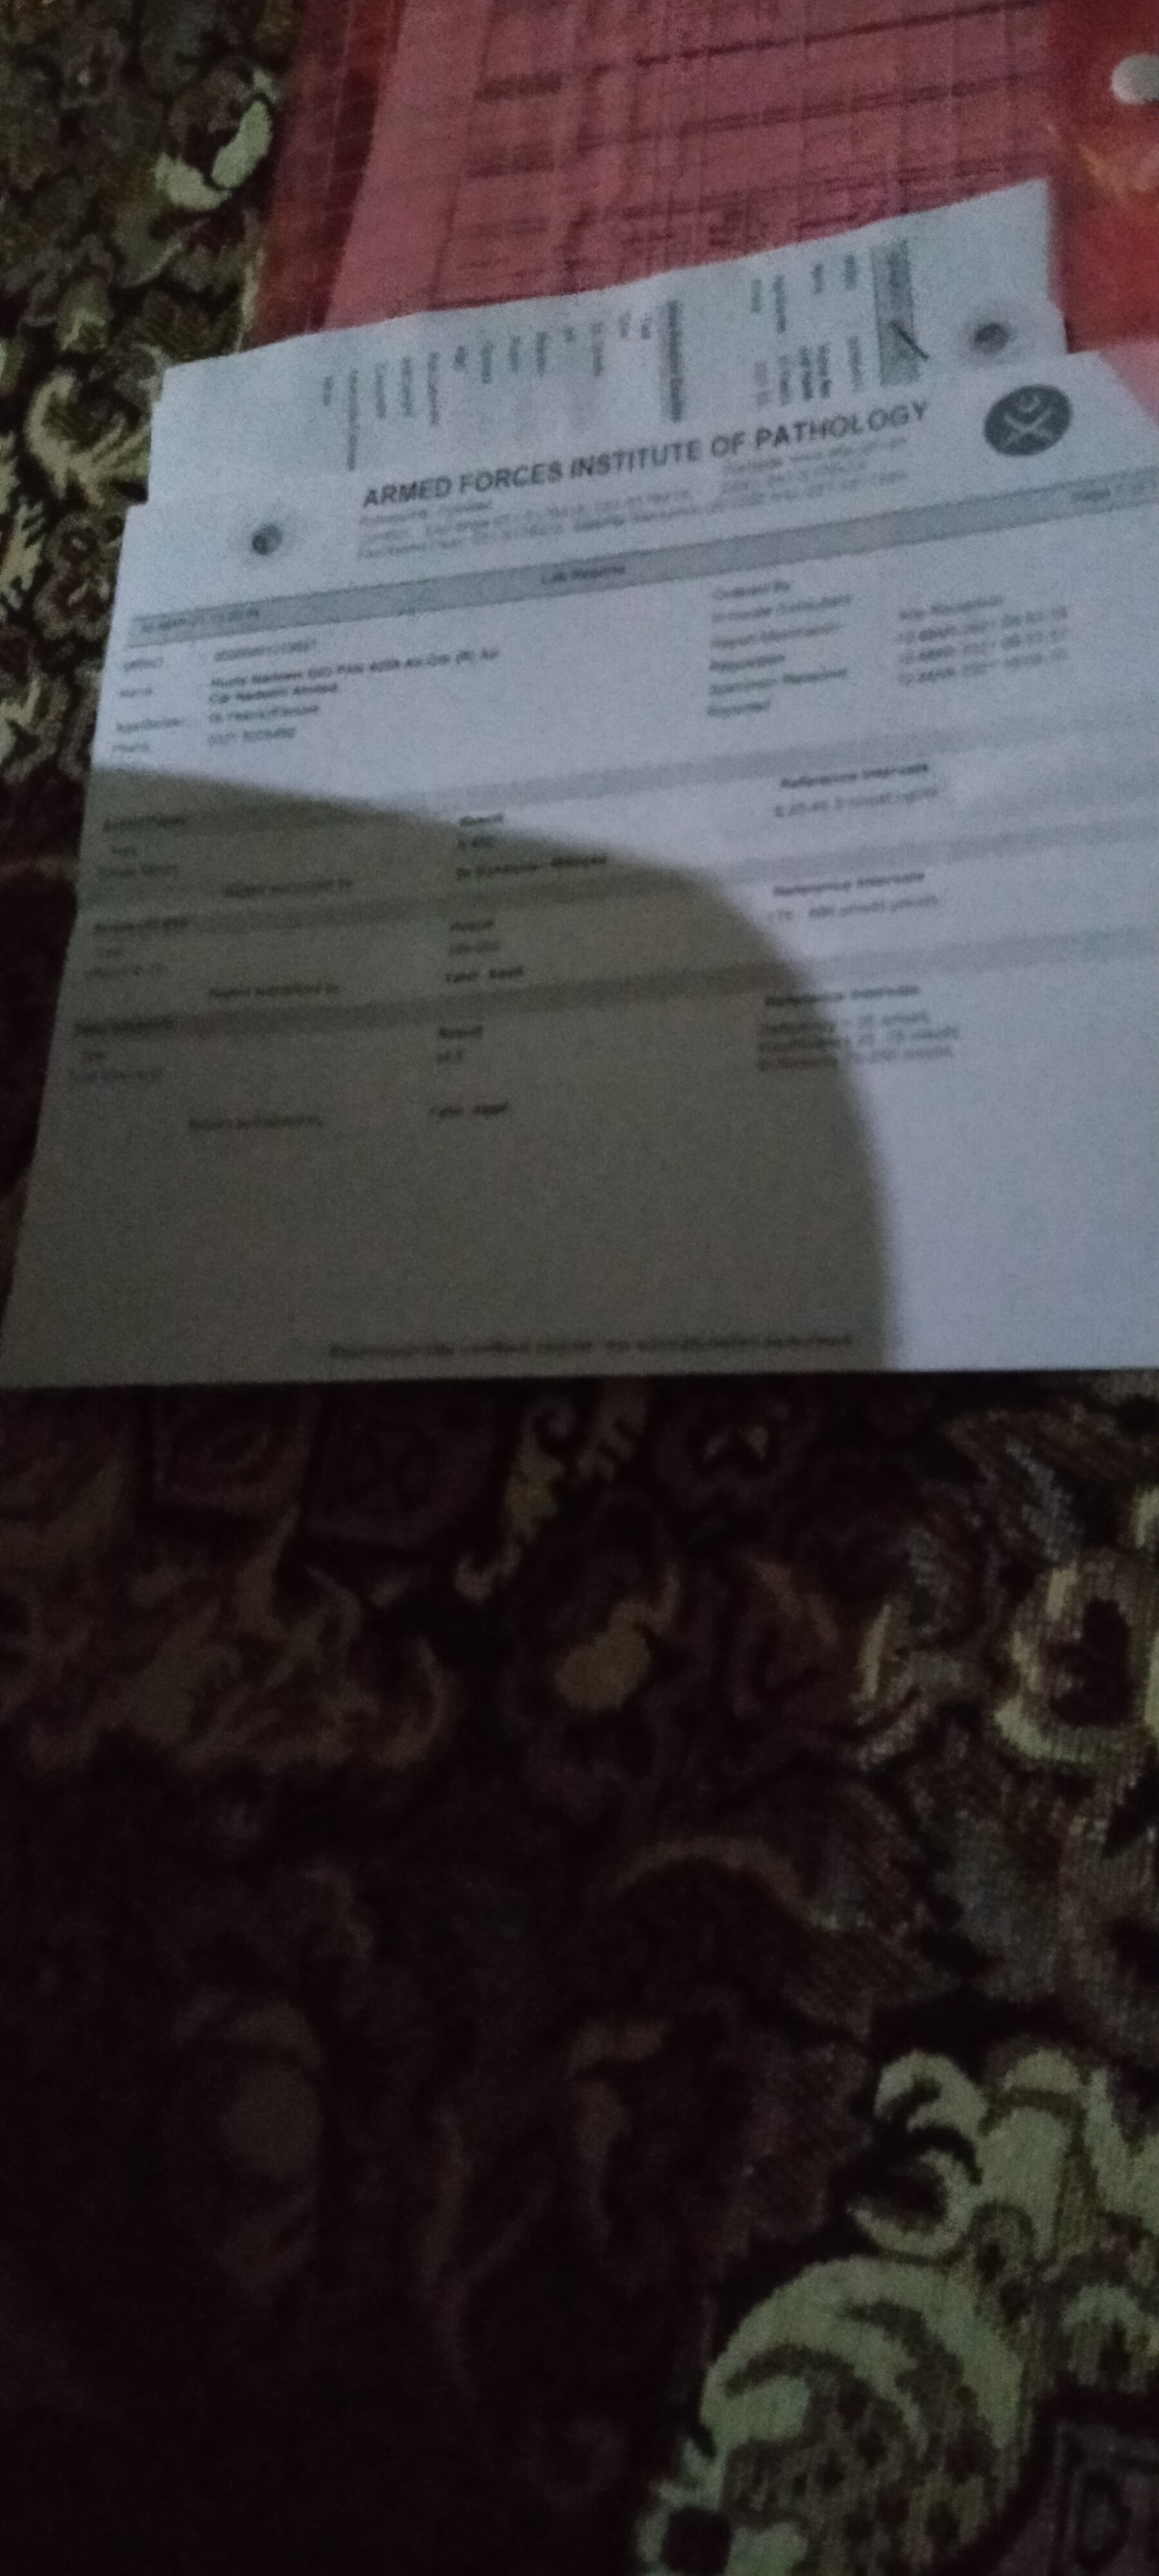report: (21, 471, 1149, 1176)
